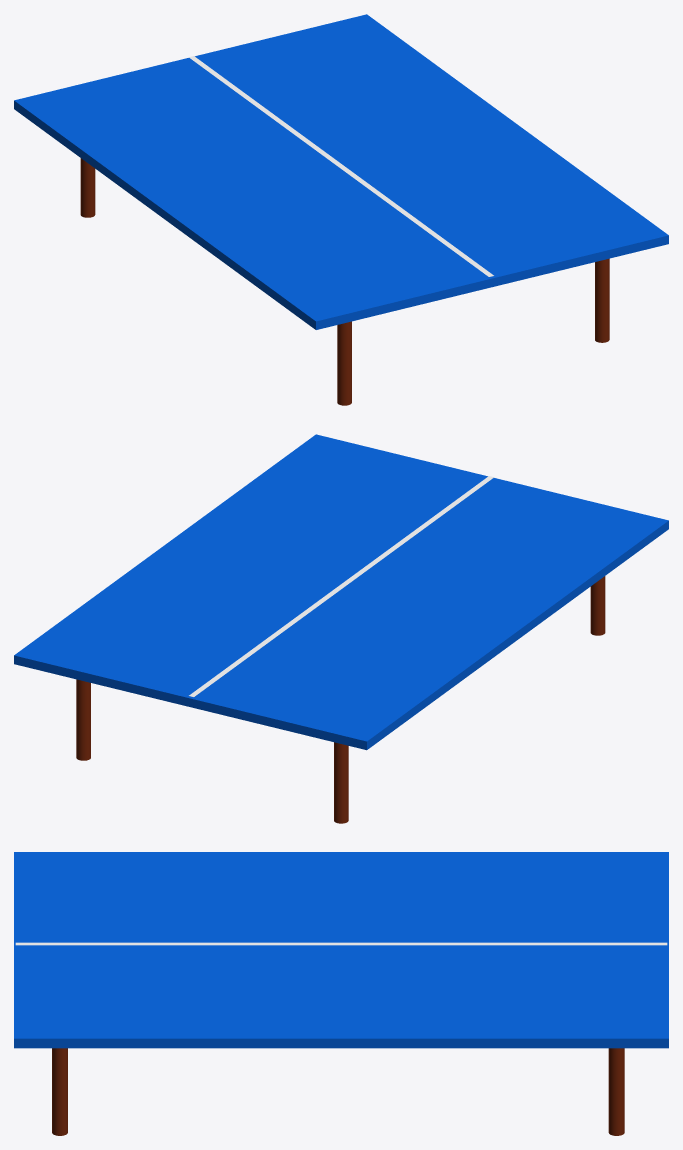
Rendered from Table.fbx.
3 views of the same model, one above another, from view 1: azimuth 30°, elevation 25°; view 2: azimuth 150°, elevation 25°; view 3: azimuth 270°, elevation 25° (orthographic). The views are drawn at different scales.
Parts seen in each view (by area): view 1: Table; view 2: Table; view 3: Table.
Boxes of the visible parts, x1,y1,x2,y2 form: Table: [14, 14, 668, 405]; Table: [14, 434, 668, 823]; Table: [14, 852, 668, 1135].
Size of the model in its own units: 824 by 246 by 1222.
